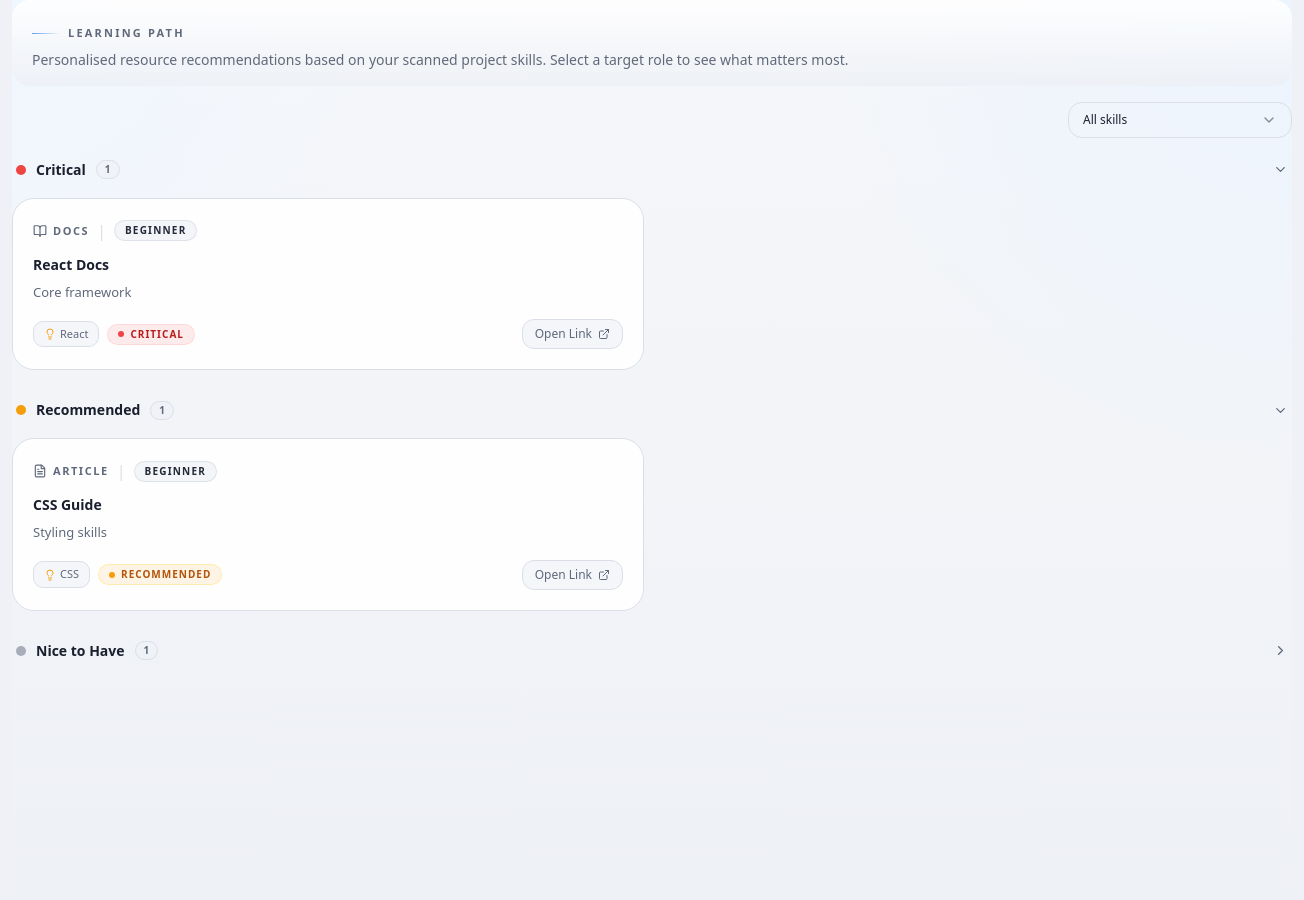
Scenario: ResourceSuggestions › collapses and expands an importance group on click
The width and height of the screenshot is (1304, 900).
Expected: the text "React Docs" is shown, [33,255,109,274]
Note: Collapse it
Click the button "Critical 1".
click(61, 169)  # box [12,154,1292,186]
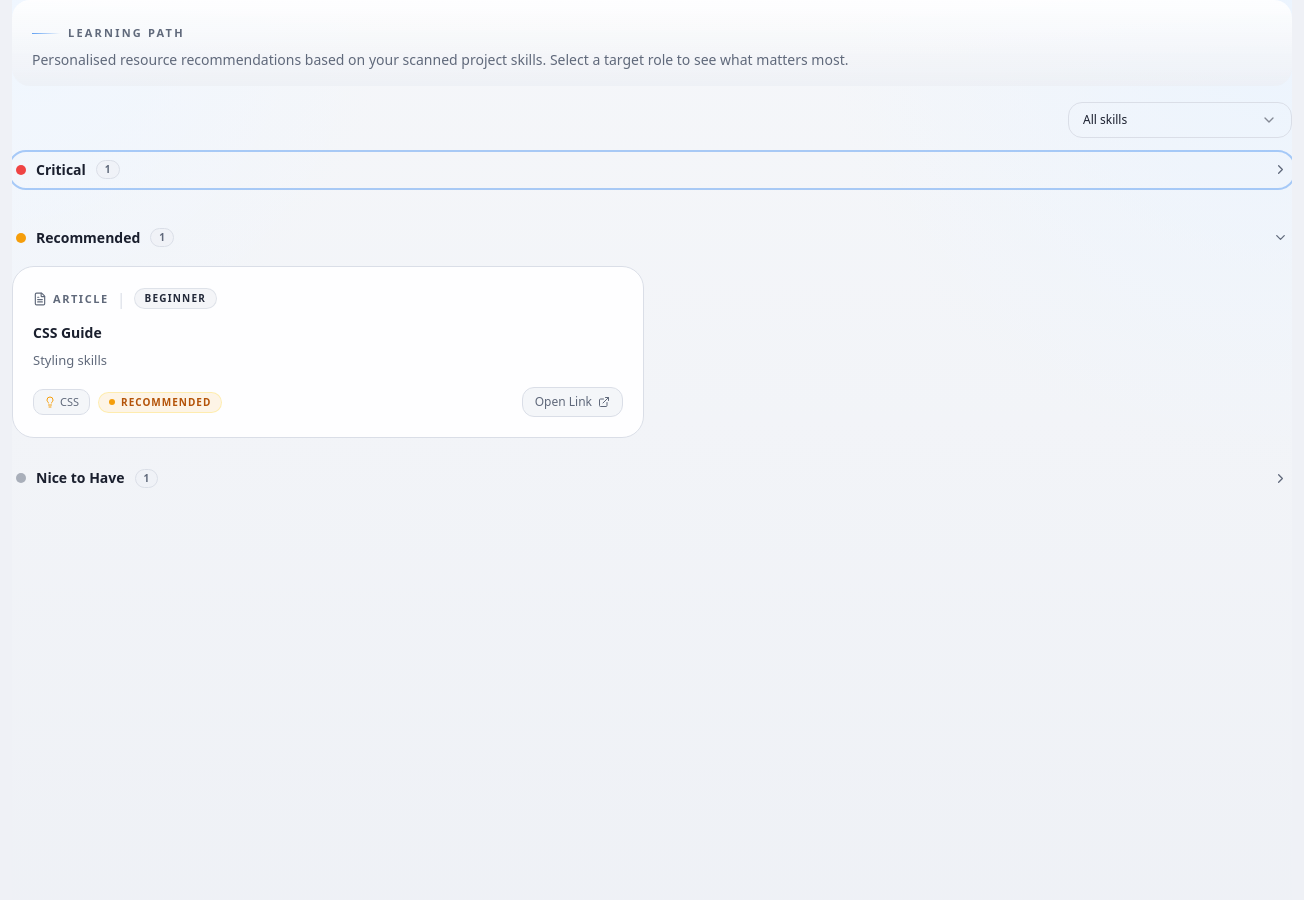
Now the button "Critical 1" is collapsed
Note: Expand again
Click the button "Critical 1".
click(61, 169)  # box [12,154,1292,186]
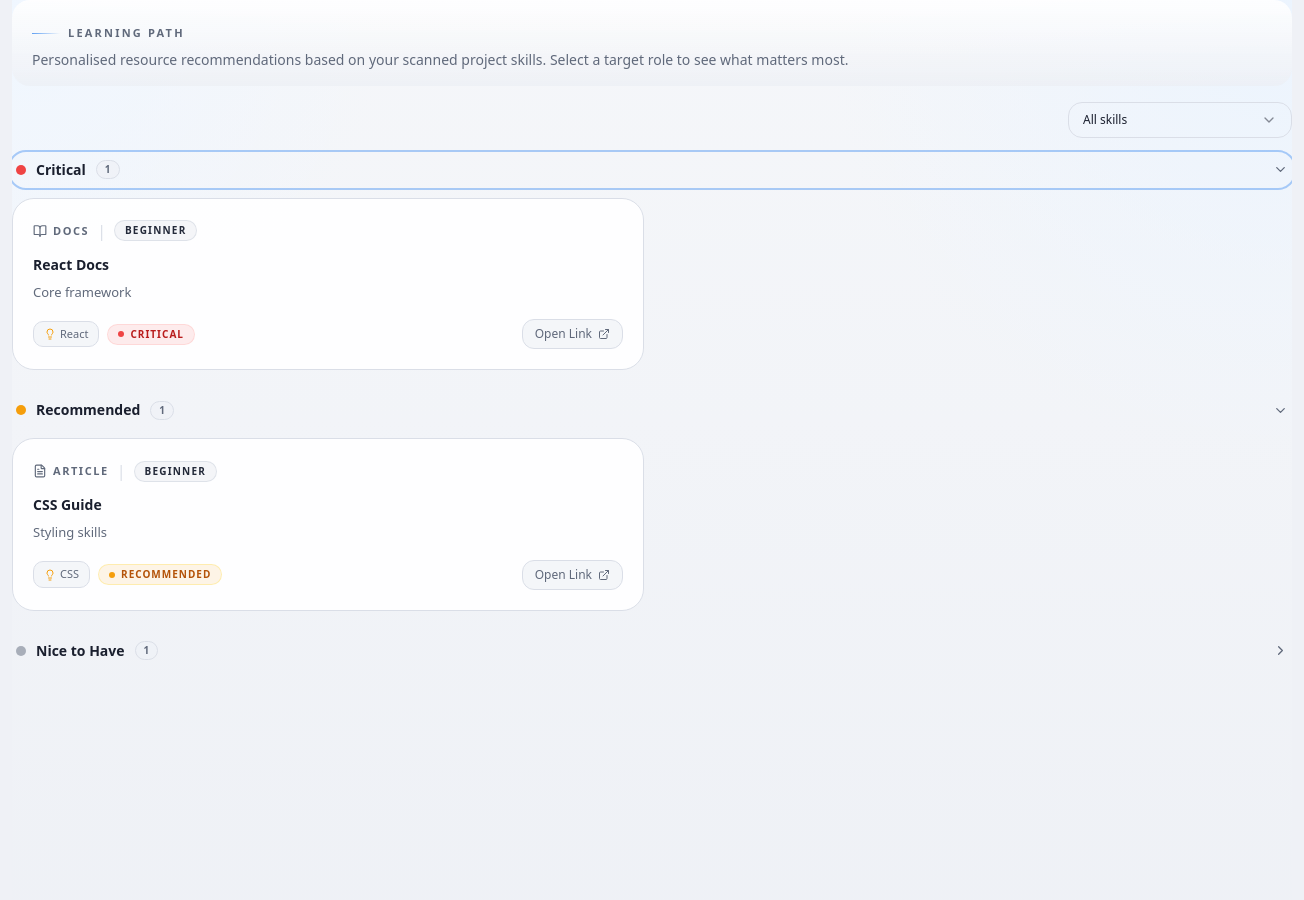
Now the button "Critical 1" is expanded, box [12,154,1292,186]
